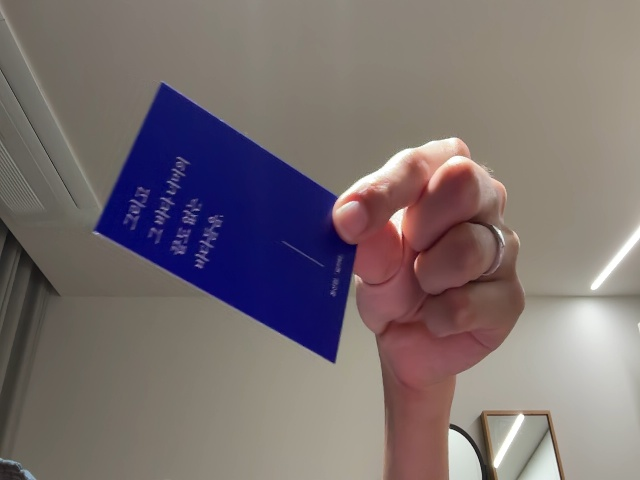card: (90, 82, 363, 365)
